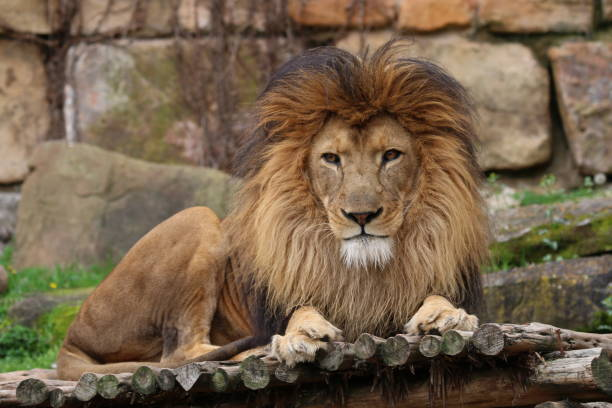lion: (212, 37, 532, 385)
